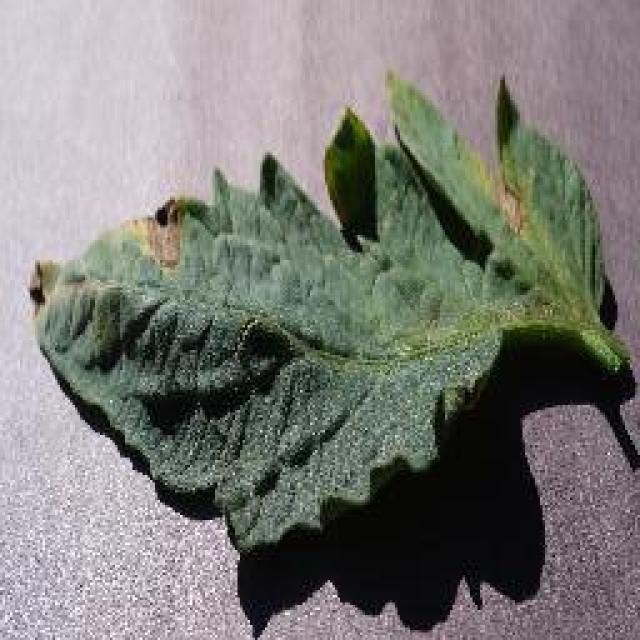Tomato Early blight leaf: (42, 112, 640, 512)
